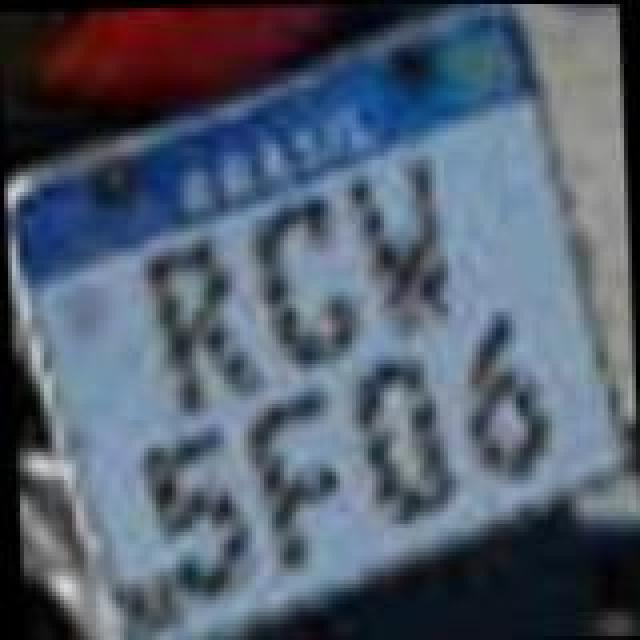5: (130, 418, 254, 602)
6: (462, 294, 554, 482)
C: (242, 192, 366, 372)
D: (350, 360, 462, 520)
F: (244, 382, 348, 570)
P: (136, 230, 268, 422)
W: (348, 154, 460, 342)
